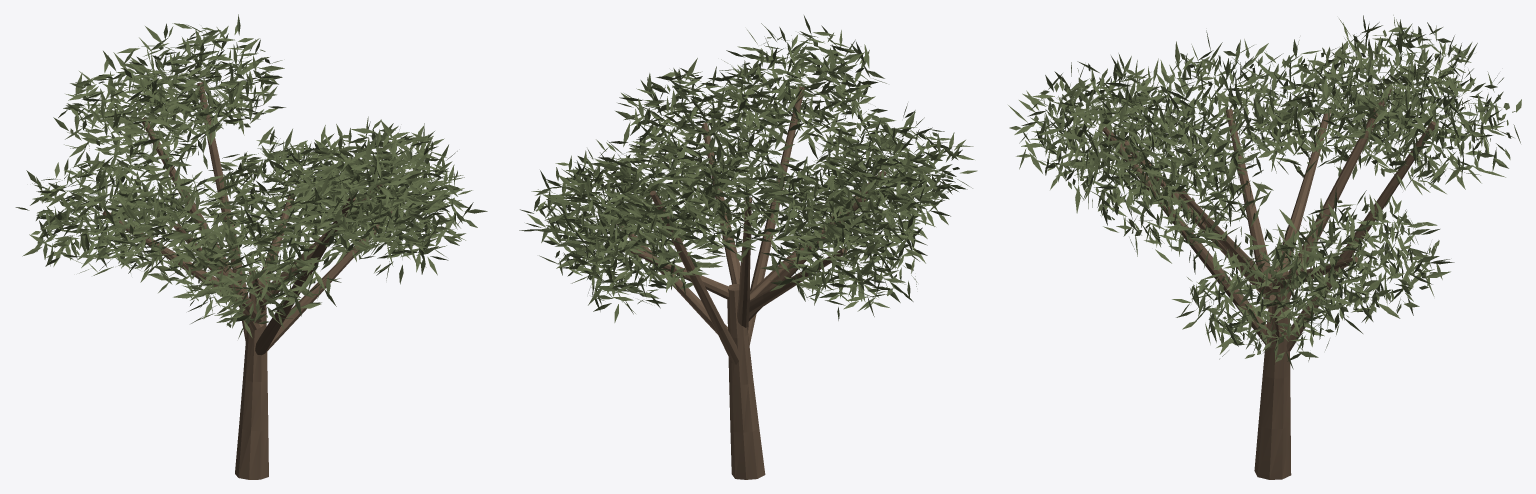
File: olive-tree.glb
The picture shows the model from 3 angles, left to right: view 1: azimuth 30°, elevation 25°; view 2: azimuth 150°, elevation 25°; view 3: azimuth 270°, elevation 25°; orthographic projection. The views are drawn at different scales.
Parts seen in each view (by area): view 1: olive-tree; view 2: olive-tree; view 3: olive-tree.
Boxes of the visible parts, left/top/right/bottom form: olive-tree: left=15, top=14, right=487, bottom=479; olive-tree: left=519, top=15, right=977, bottom=479; olive-tree: left=1008, top=15, right=1521, bottom=479.
Bounding box in the file's own units: 6.55 × 5.87 × 6.41.
